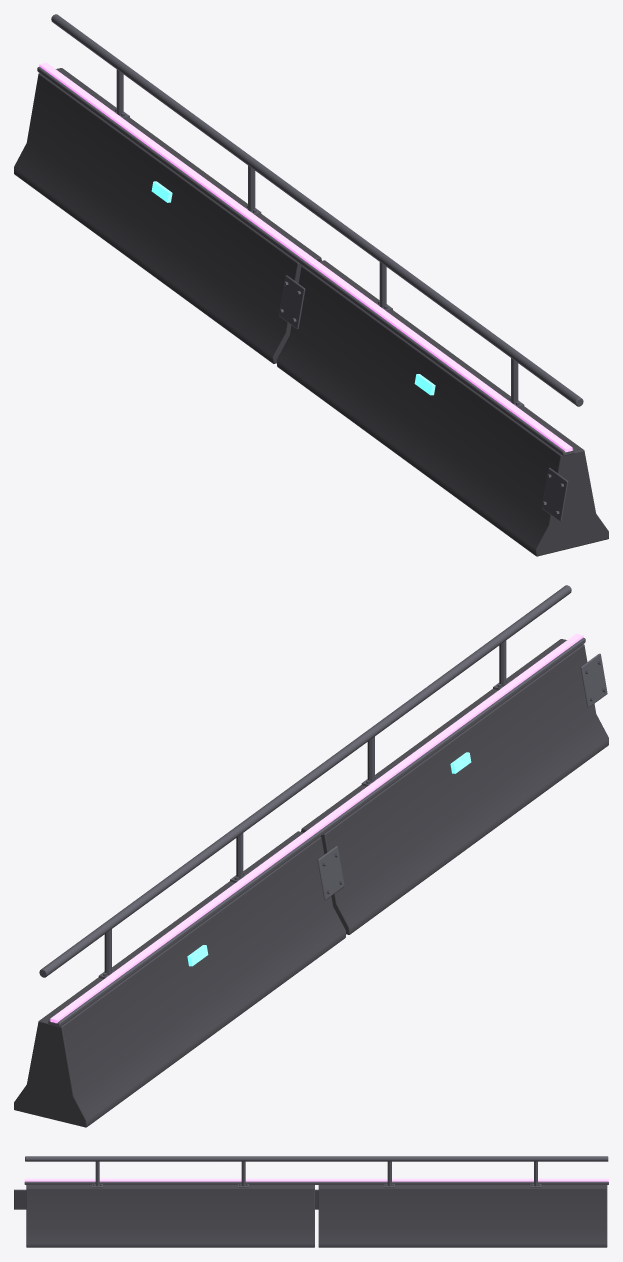
The model's file is barrier.glb.
The picture shows the model from 3 angles, top to bottom: view 1: azimuth 30°, elevation 25°; view 2: azimuth 150°, elevation 25°; view 3: azimuth 270°, elevation 25°; orthographic projection. The views are drawn at different scales.
Parts seen in each view (by area): view 1: barrier; view 2: barrier; view 3: barrier.
Boxes of the visible parts, x1=… form: barrier: x1=14, y1=14, x2=608, y2=556; barrier: x1=14, y1=585, x2=608, y2=1127; barrier: x1=14, y1=1156, x2=608, y2=1247.
Size of the model in its own units: 0.8 by 1.57 by 10.18.
